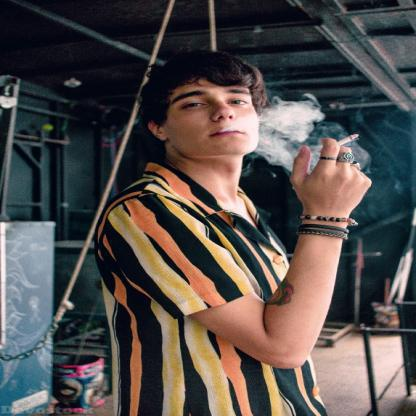cigarette: (338, 132, 360, 148)
person: (104, 49, 278, 416)
smoke: (255, 96, 327, 169)
